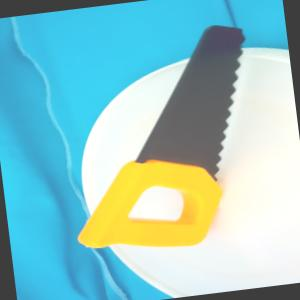serrote: (53, 20, 270, 260)
